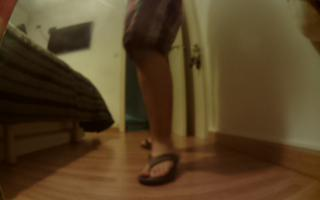person: (116, 1, 195, 186)
